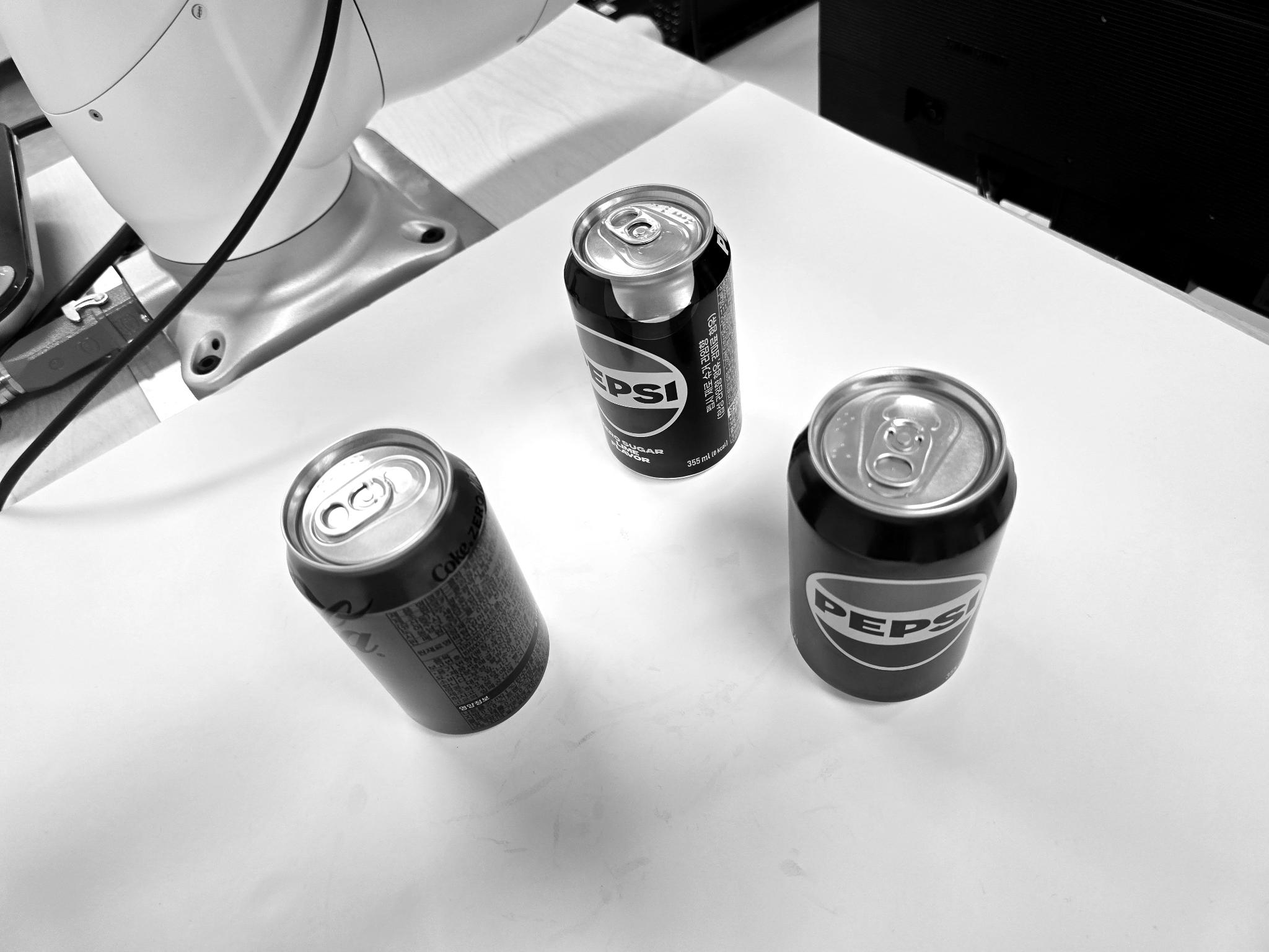can_coke_zero: (286, 426, 555, 734)
can_pepsi: (787, 365, 1015, 705)
can_pepsi_zero: (563, 186, 744, 481)
